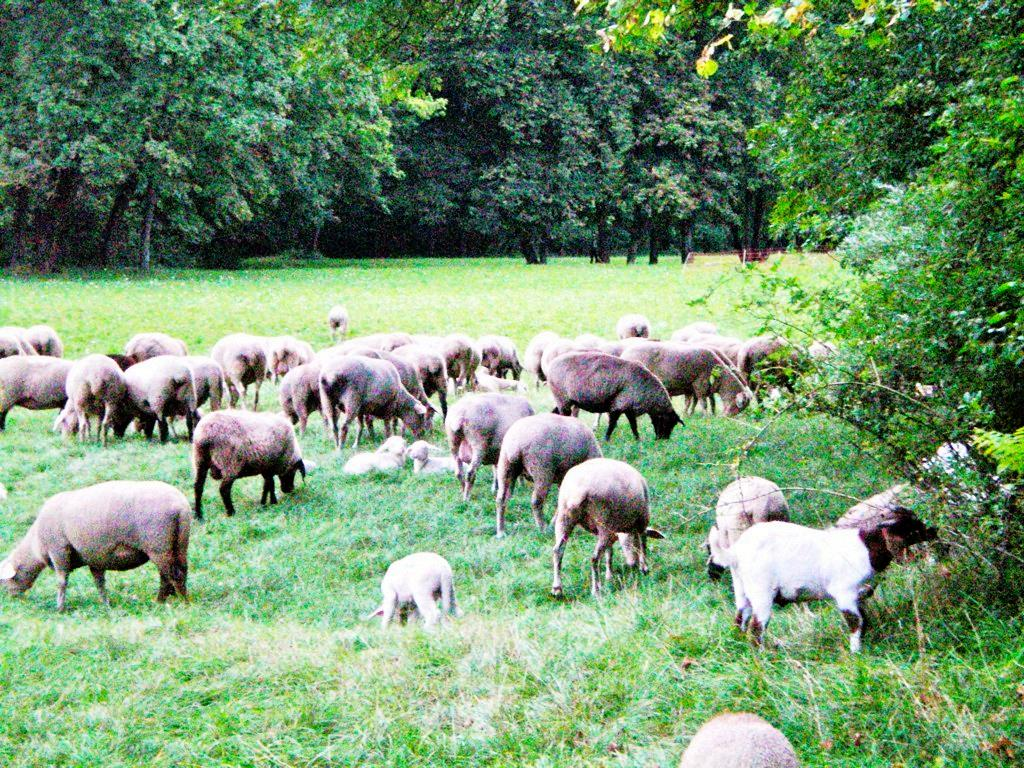Sheep: (708, 494, 913, 652), (0, 477, 211, 619), (827, 443, 1015, 560), (553, 451, 668, 597), (543, 348, 686, 450), (184, 406, 312, 519), (0, 349, 92, 438), (367, 548, 463, 632), (672, 712, 800, 767), (52, 354, 129, 443), (209, 334, 264, 411), (340, 432, 407, 474), (408, 439, 464, 478), (321, 301, 353, 346)
